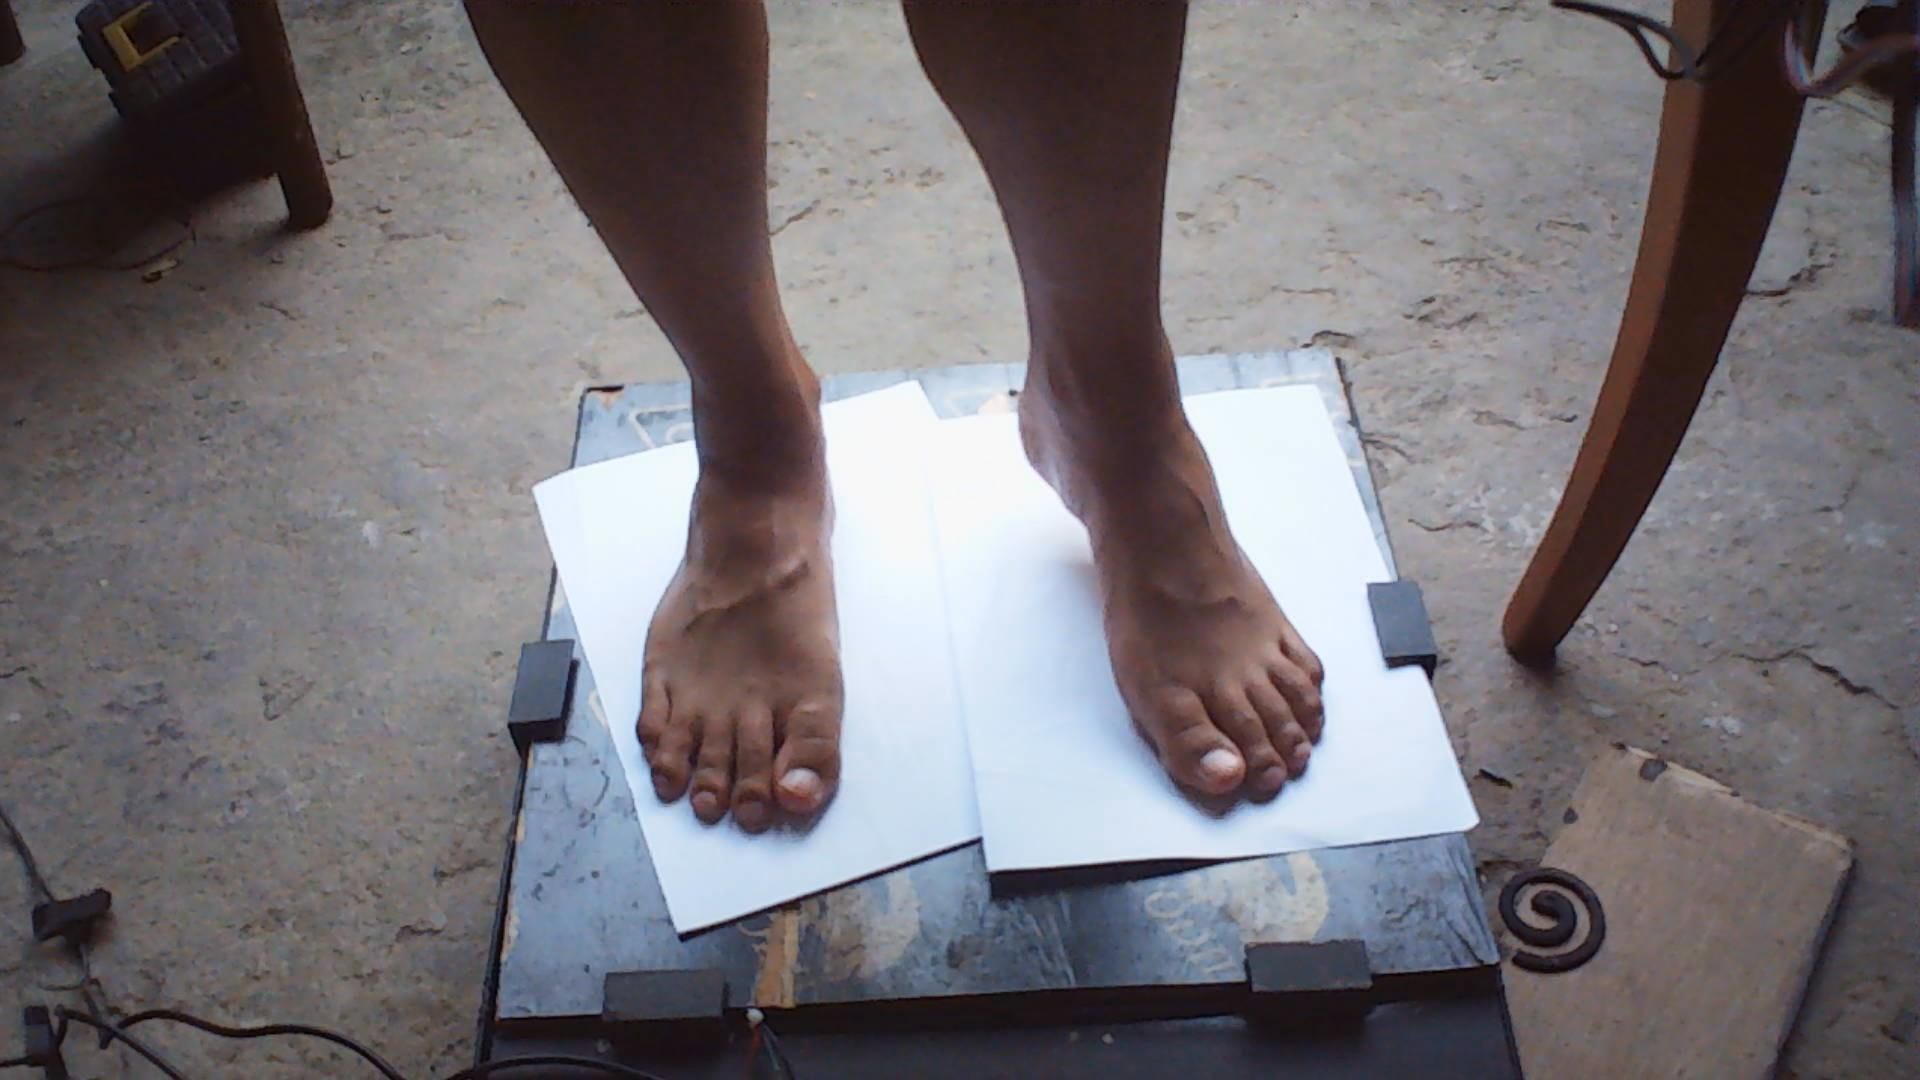Bare_feet: (968, 385, 1378, 857), (626, 402, 873, 858)
